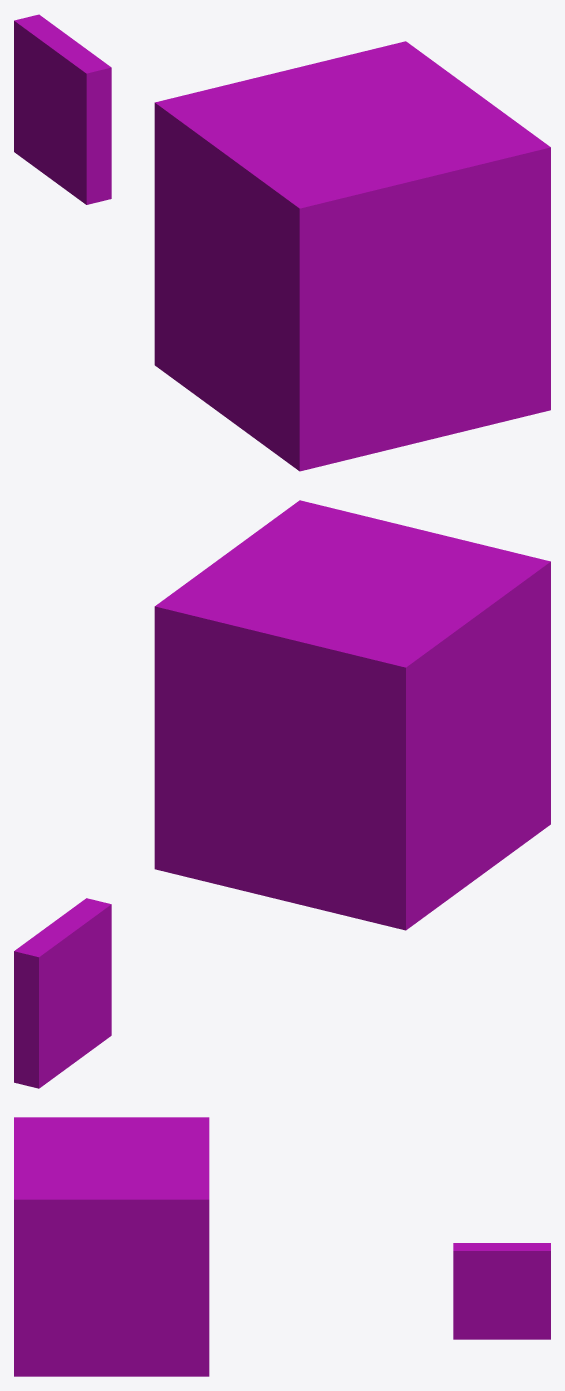
Rendered from asset.glb.
3 views of the same model, one above another, from view 1: azimuth 30°, elevation 25°; view 2: azimuth 150°, elevation 25°; view 3: azimuth 270°, elevation 25° (orthographic). The views are drawn at different scales.
Parts seen in each view (by area): view 1: Cube, Cube.001; view 2: Cube, Cube.001; view 3: Cube, Cube.001.
Boxes of the visible parts, bbox=[...] form: Cube: bbox=[154, 41, 550, 471]; Cube.001: bbox=[14, 14, 111, 204]; Cube: bbox=[154, 500, 550, 930]; Cube.001: bbox=[14, 898, 111, 1088]; Cube: bbox=[14, 1117, 209, 1376]; Cube.001: bbox=[453, 1243, 550, 1339].
Bounding box in the file's own units: 10 × 10 × 27.5.
